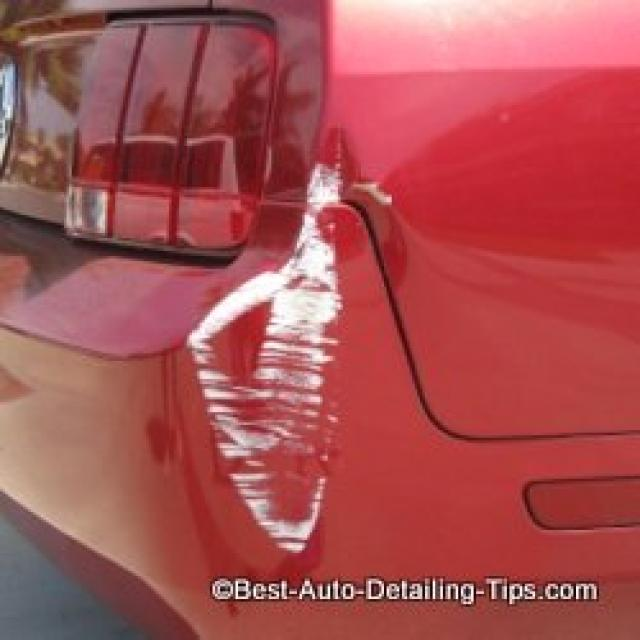Scratch: (182, 141, 358, 566)
